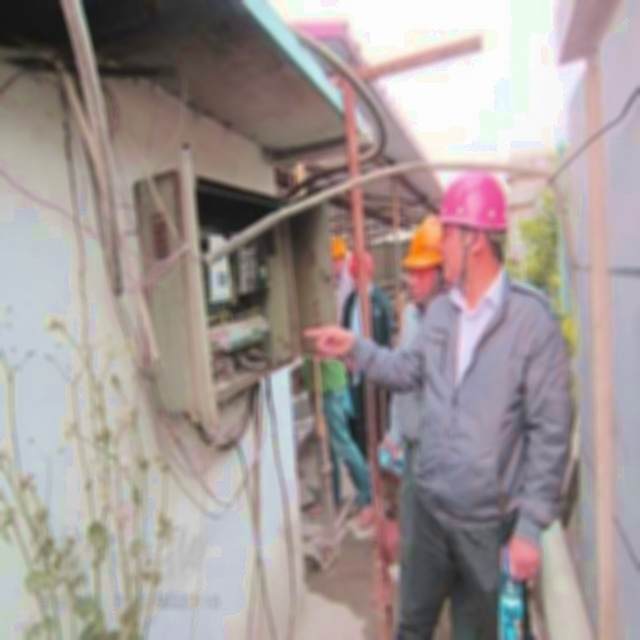Con_Casco: (440, 172, 506, 283), (404, 216, 441, 301)
